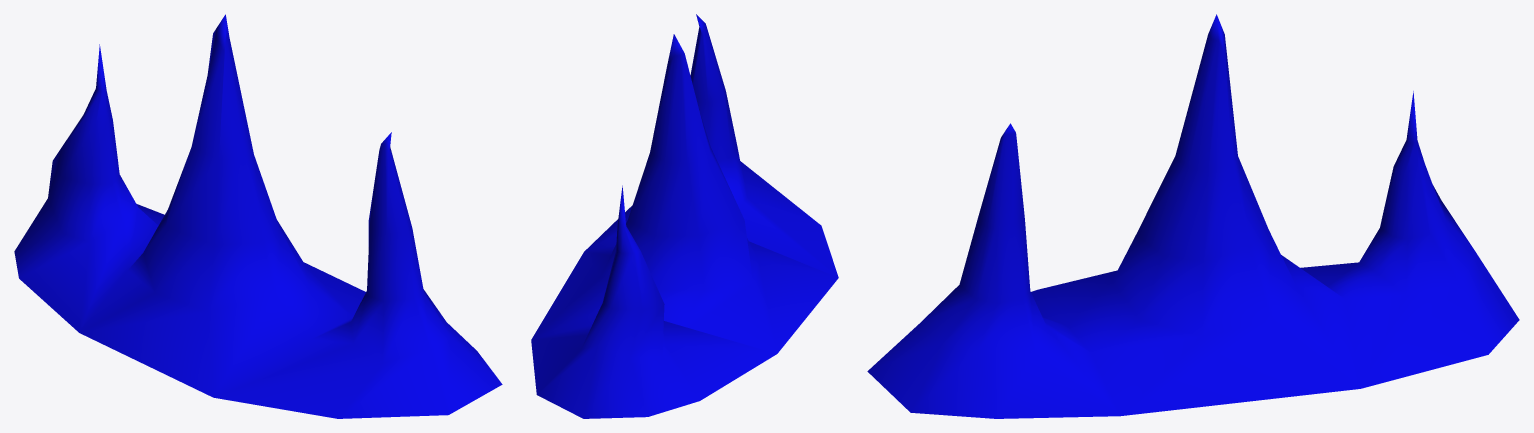
Rendered from Spike08_mesh.fbx.
3 renders of one model, left to right at view 1: azimuth 30°, elevation 25°; view 2: azimuth 150°, elevation 25°; view 3: azimuth 270°, elevation 25°, orthographic. The views are drawn at different scales.
Visible parts, largest first — view 1: Spike08_mesh; view 2: Spike08_mesh; view 3: Spike08_mesh.
Boxes of the visible parts, x1,y1,x2,y2 form: Spike08_mesh: (14, 14, 502, 418); Spike08_mesh: (531, 14, 838, 418); Spike08_mesh: (867, 14, 1519, 418).
Bounding box in the file's own units: 2.08 × 2.16 × 3.88.
